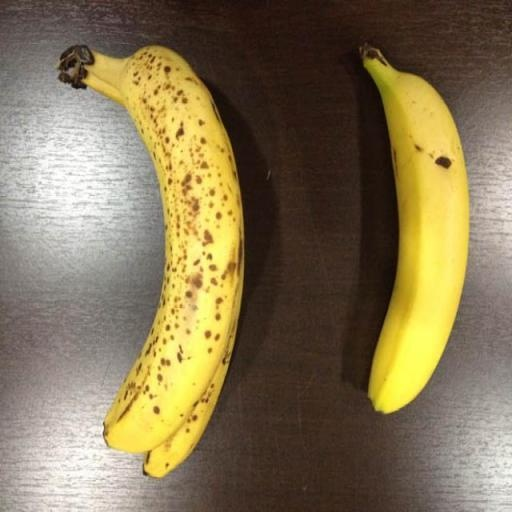fruit: (58, 46, 243, 474), (360, 45, 468, 412)
